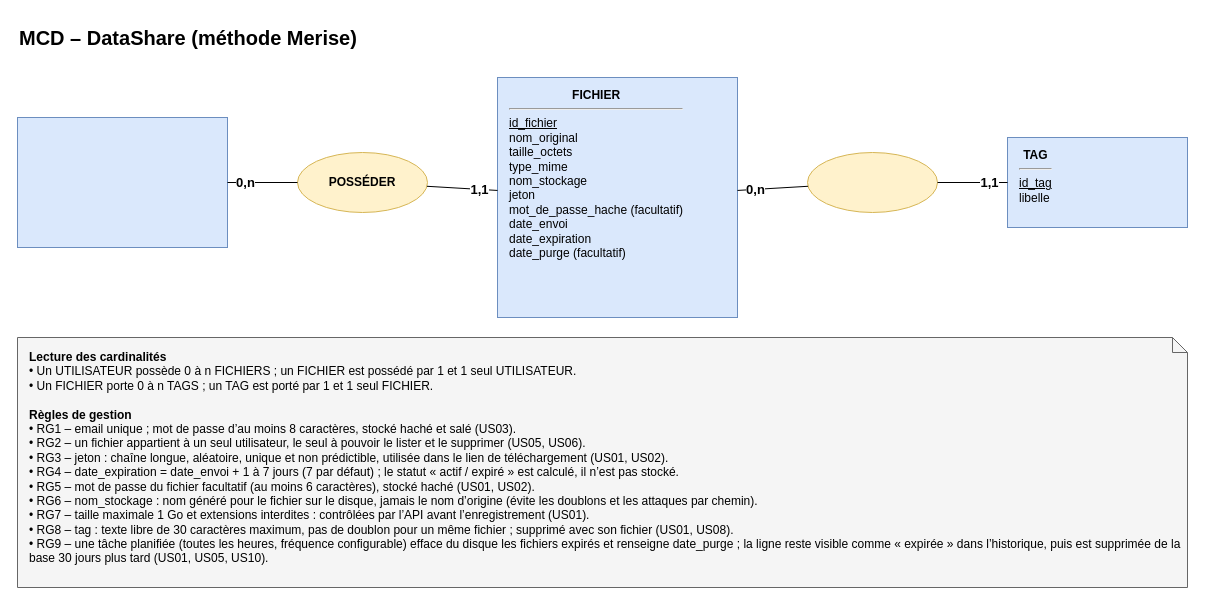
This 1205x605 diagram has some shape labels left out. The shapes that lost their labels are listed below. From the top down, each one's centre as x and y in pixels, then its label:
(x=122, y=182): UTILISATEUR id_utilisateur email mot_de_passe_hache date_creation
(x=872, y=182): ÉTIQUETER
